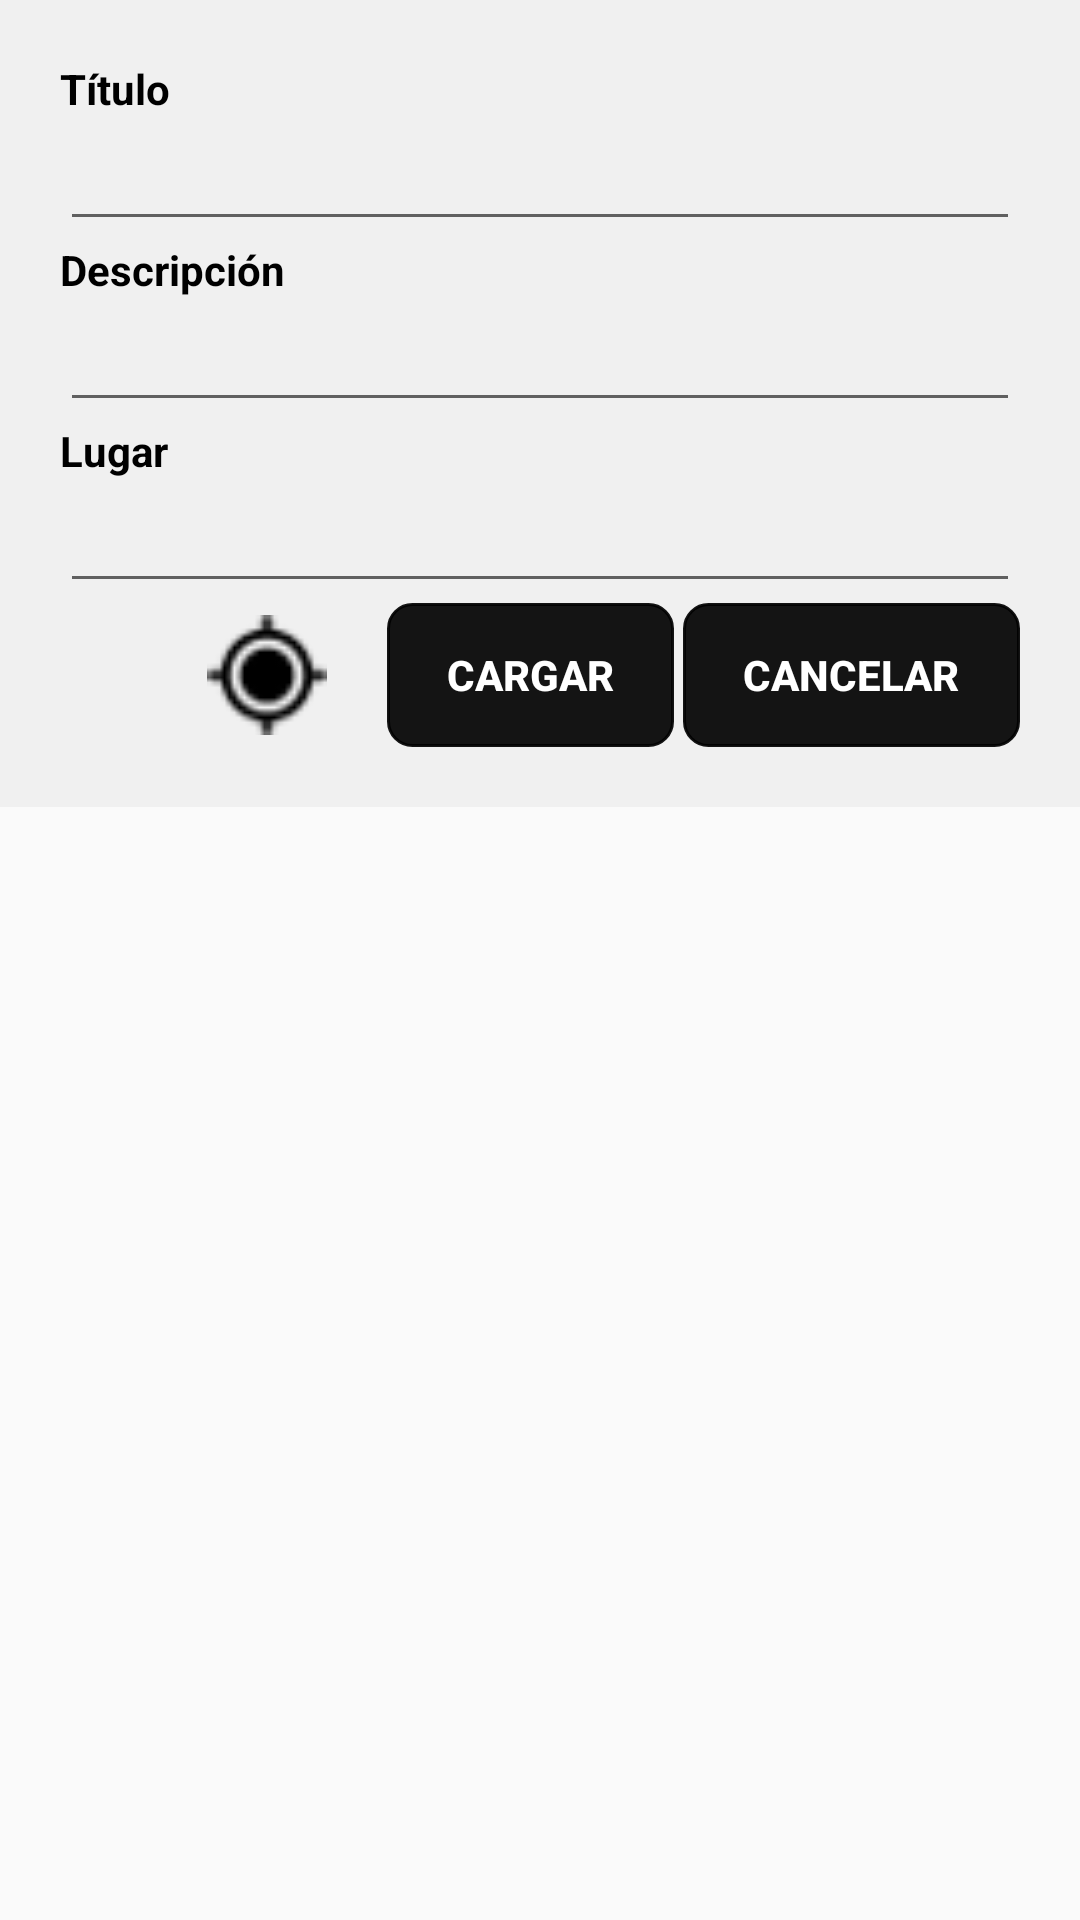

Locate icon controls on the screen. Image size 1080 × 1920, boxes as bbox(x1, y1, x2, y2).
mylocation: bbox(207, 615, 327, 735)
